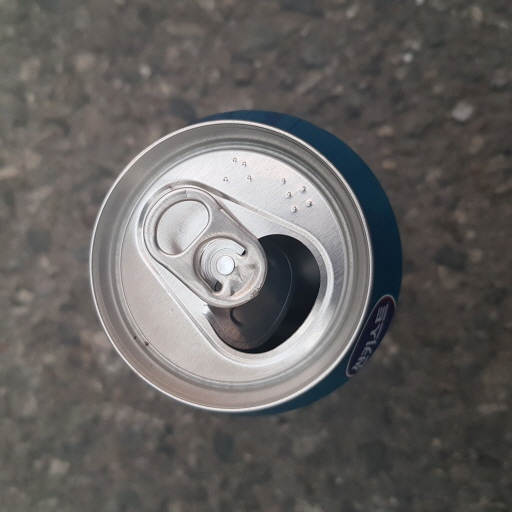Metal_0: (86, 106, 403, 417)
